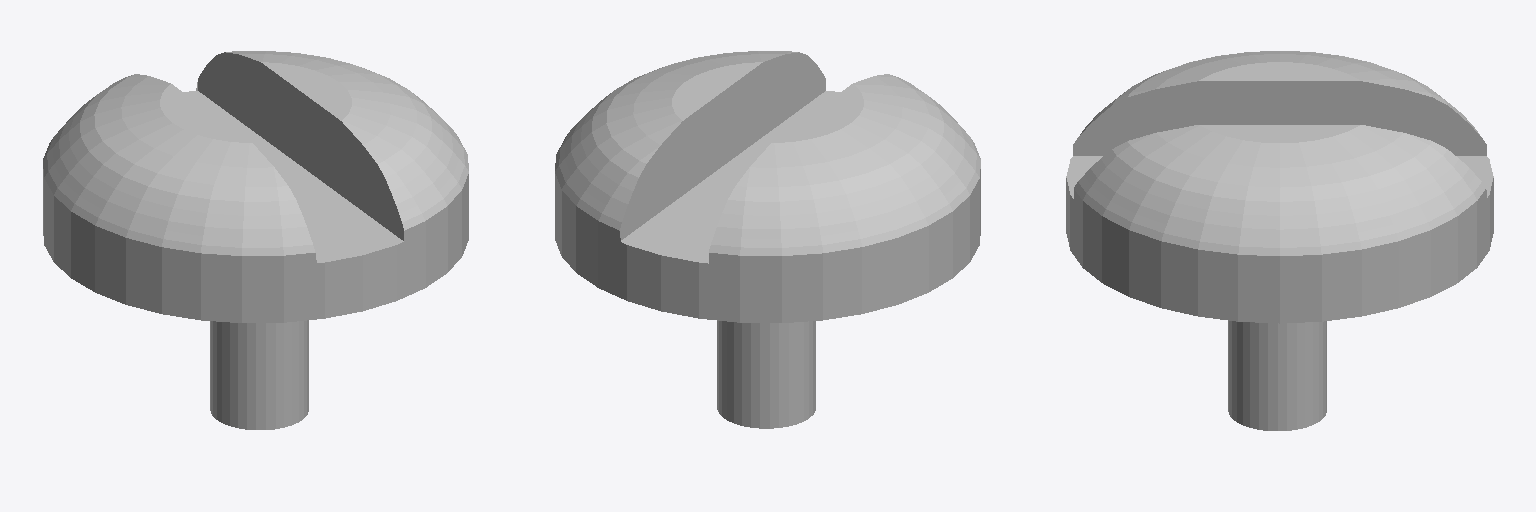
Rendered from ScrewC.obj.
The picture shows the model from 3 angles: view 1: azimuth 30°, elevation 25°; view 2: azimuth 150°, elevation 25°; view 3: azimuth 270°, elevation 25°; orthographic projection.
Visible parts, largest first — view 1: Cylinder_Cylinder.001; view 2: Cylinder_Cylinder.001; view 3: Cylinder_Cylinder.001.
Boxes of the visible parts, x1,y1,x2,y2 form: Cylinder_Cylinder.001: [43, 51, 468, 429]; Cylinder_Cylinder.001: [555, 51, 980, 428]; Cylinder_Cylinder.001: [1066, 51, 1493, 430].
Bounding box in the file's own units: 2.33 × 1.85 × 2.33.